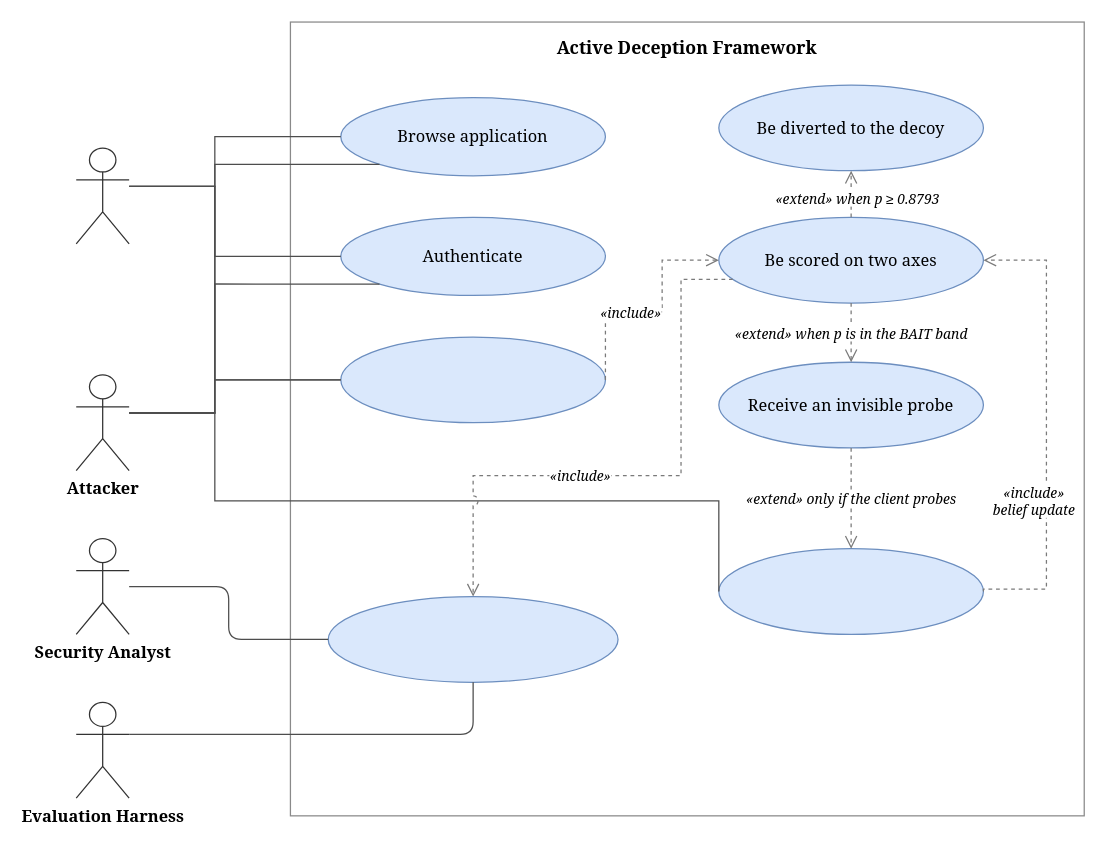
Some shapes in this 1106 by 849 pixel diagram are drawn without their labels. Each missing label, with the centre of its shape:
"Act on a planted token" belongs at [850,590].
"Have decisions logged tamper-evidently" belongs at [472,638].
"Legitimate User" belongs at [102,195].
"Submit search / access record" belongs at [472,379].
